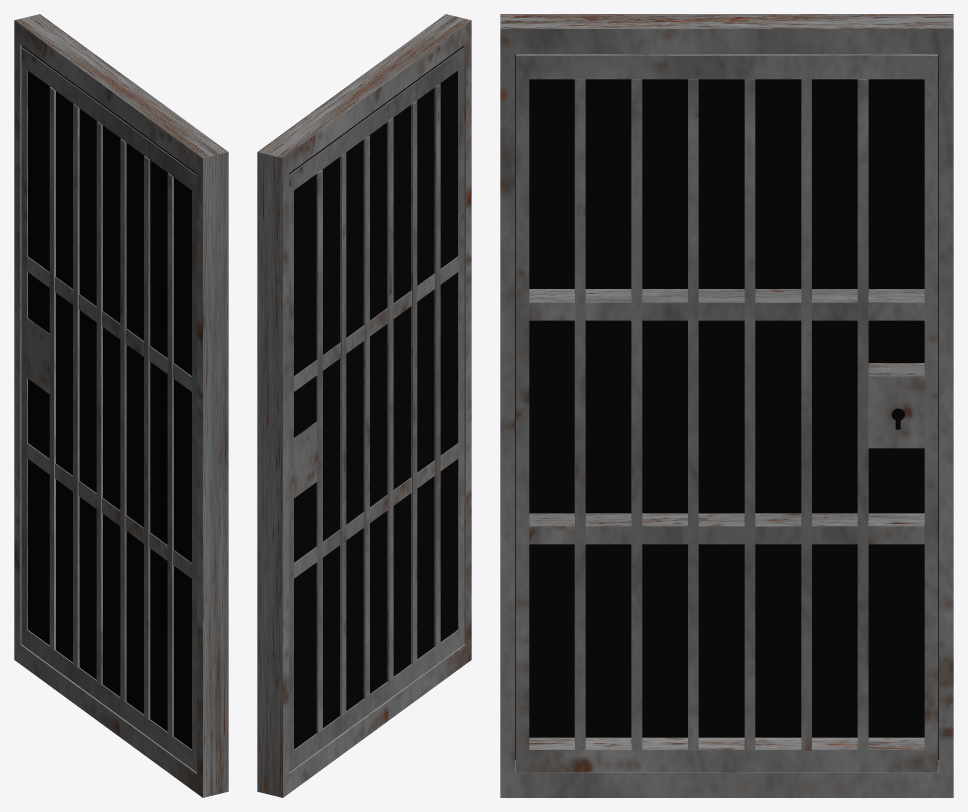
Rendered from Door-metal.glb.
3 views of the same model, side by side, from view 1: azimuth 30°, elevation 25°; view 2: azimuth 150°, elevation 25°; view 3: azimuth 270°, elevation 25° (orthographic). The views are drawn at different scales.
Visible parts, largest first — view 1: Frame, Door; view 2: Frame, Door; view 3: Frame, Door.
Part boxes in pixels (x1,y1,x2,y2): Frame: [14, 14, 228, 797]; Door: [21, 47, 196, 772]; Frame: [257, 14, 471, 797]; Door: [289, 47, 464, 772]; Frame: [500, 14, 953, 797]; Door: [515, 54, 938, 772].
Bounding box in the file's own units: 0.2692 × 6.35 × 3.4.
Materials: 2 (1 with a texture image).
